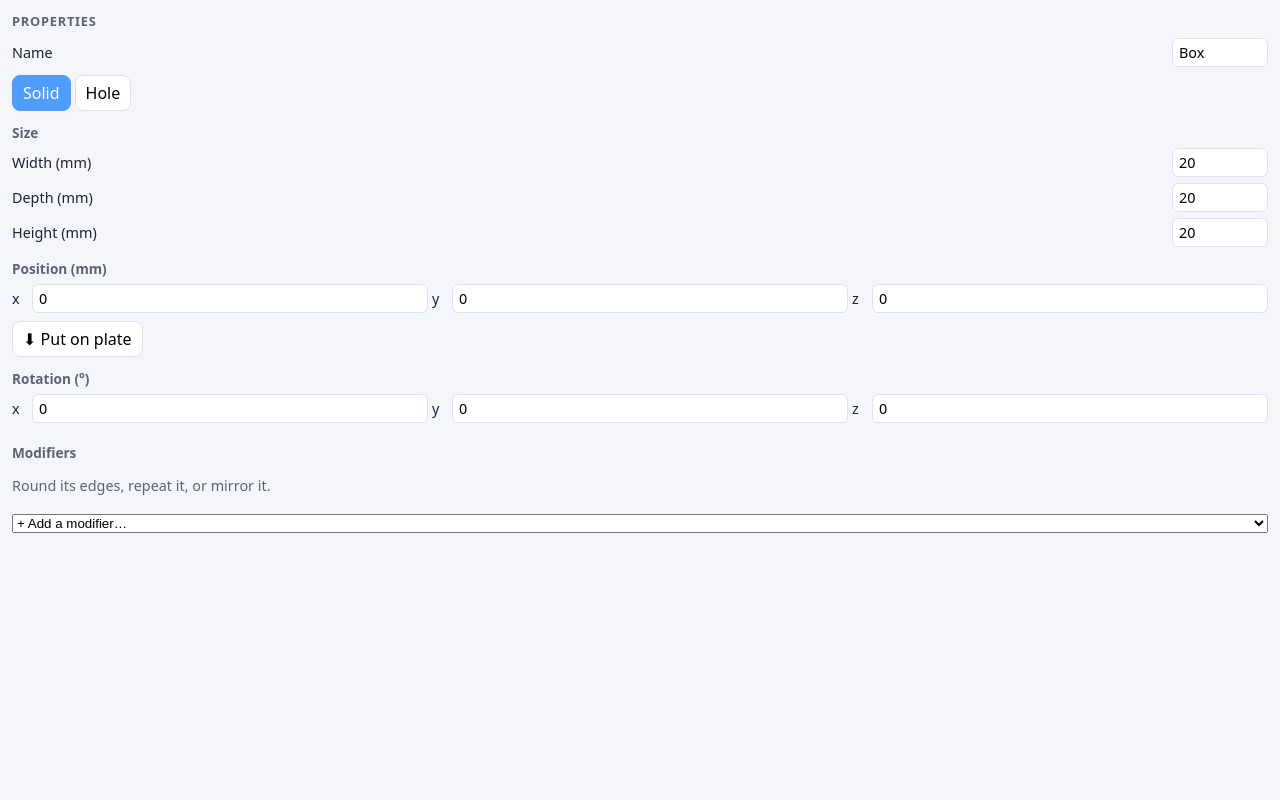
Test: ModifierStack › shows warnings from the last build
Select "◠ Round edges" in the dropdown with test id "add-modifier" at [640, 523], box 12,514 -> 1268,533
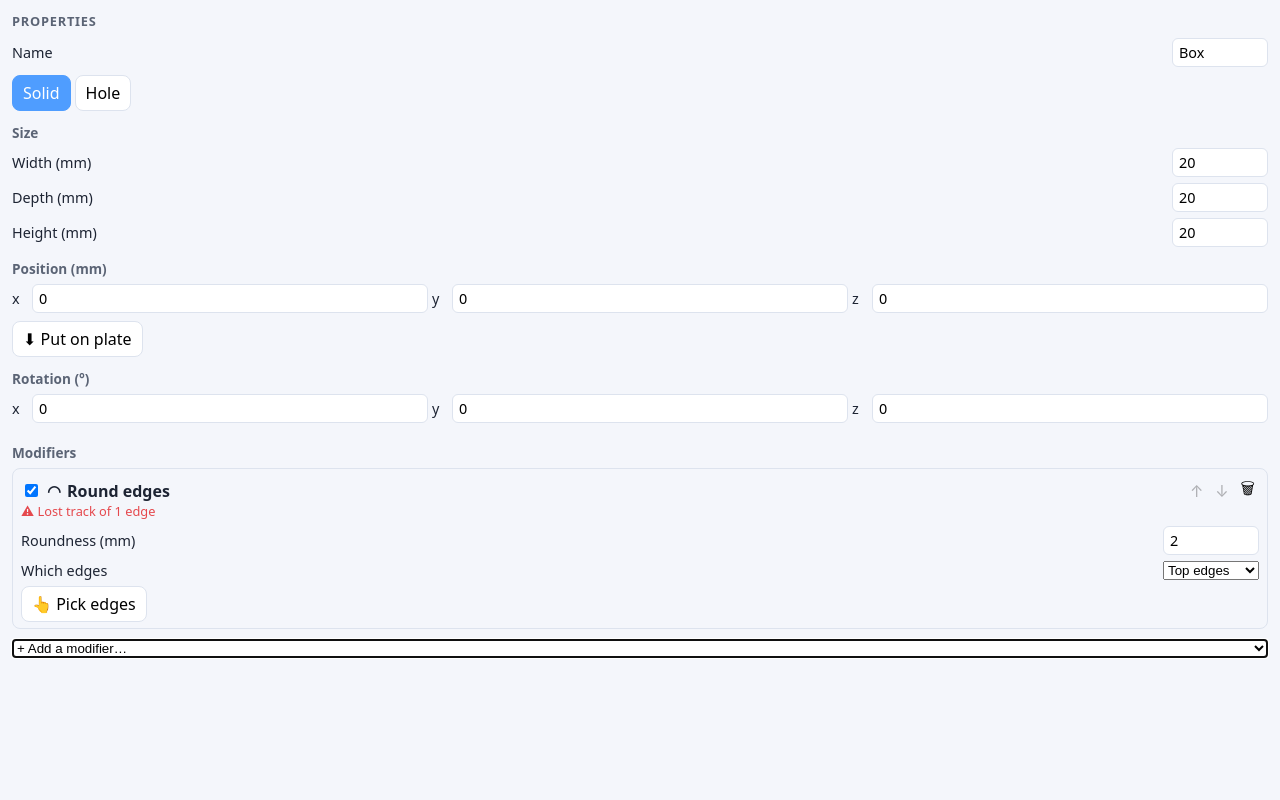
expect the text with test id "mod-warning-0" shows "Lost track of 1 edge": met, box 38,502 -> 156,520
